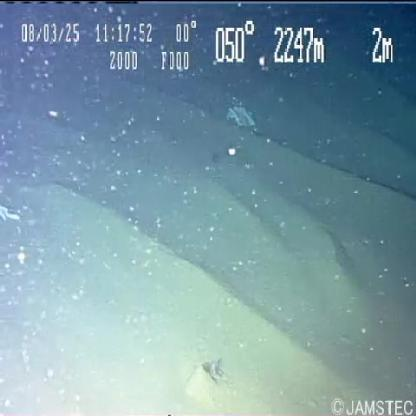Rác: (0, 205, 23, 229)
